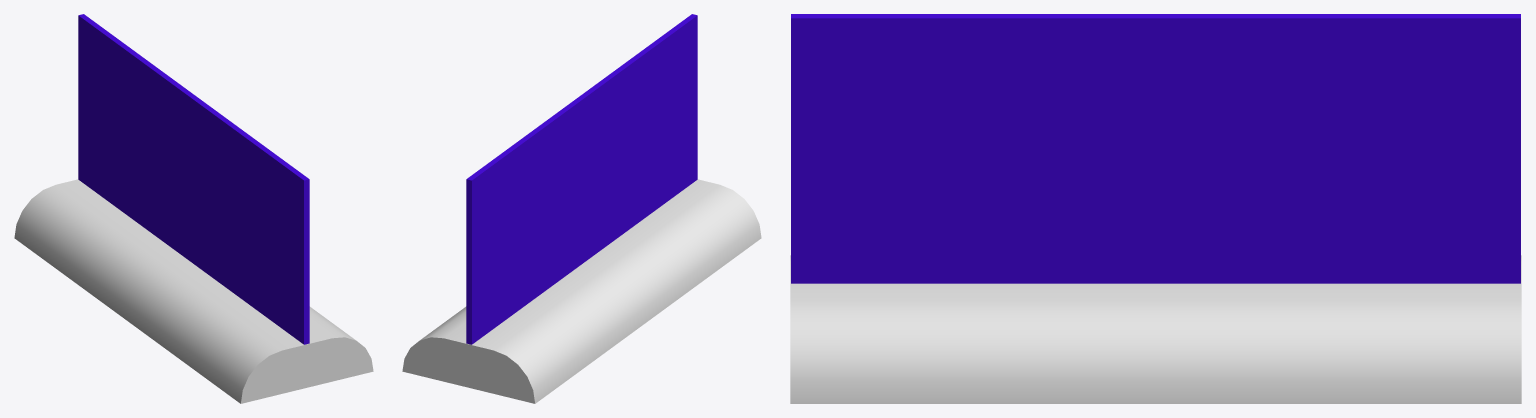
Rendered from Nooduitgang.fbx.
3 views of the same model, side by side, from view 1: azimuth 30°, elevation 25°; view 2: azimuth 150°, elevation 25°; view 3: azimuth 270°, elevation 25° (orthographic). The views are drawn at different scales.
Visible parts, largest first — view 1: Cube; view 2: Cube; view 3: Cube.
Boxes of the visible parts, <box> form: Cube: <box>14,14,373,403</box>; Cube: <box>402,14,761,403</box>; Cube: <box>790,14,1521,403</box>.
Size of the model in its own units: 14.98 by 22.38 by 44.23.
